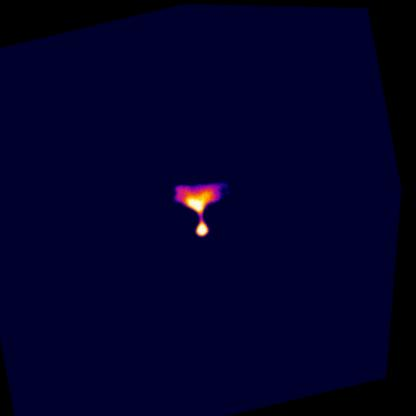drone: (168, 170, 242, 240)
